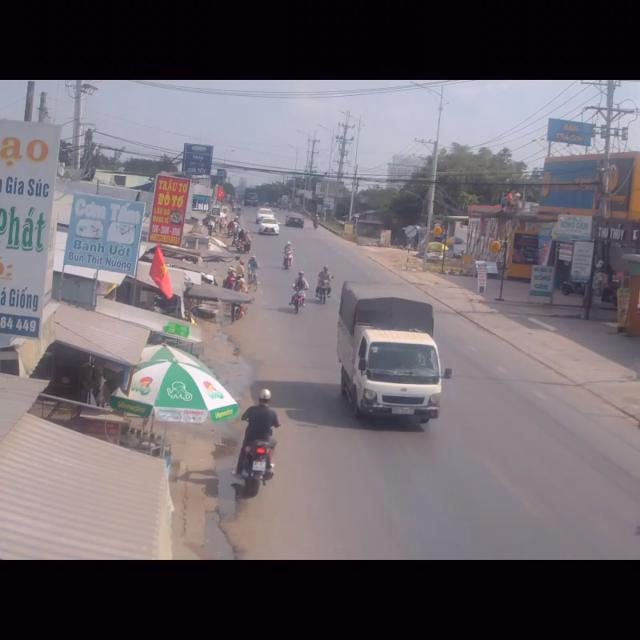motorbike: (236, 388, 280, 502), (290, 270, 306, 316), (317, 262, 332, 308)
truck: (338, 278, 448, 426)
